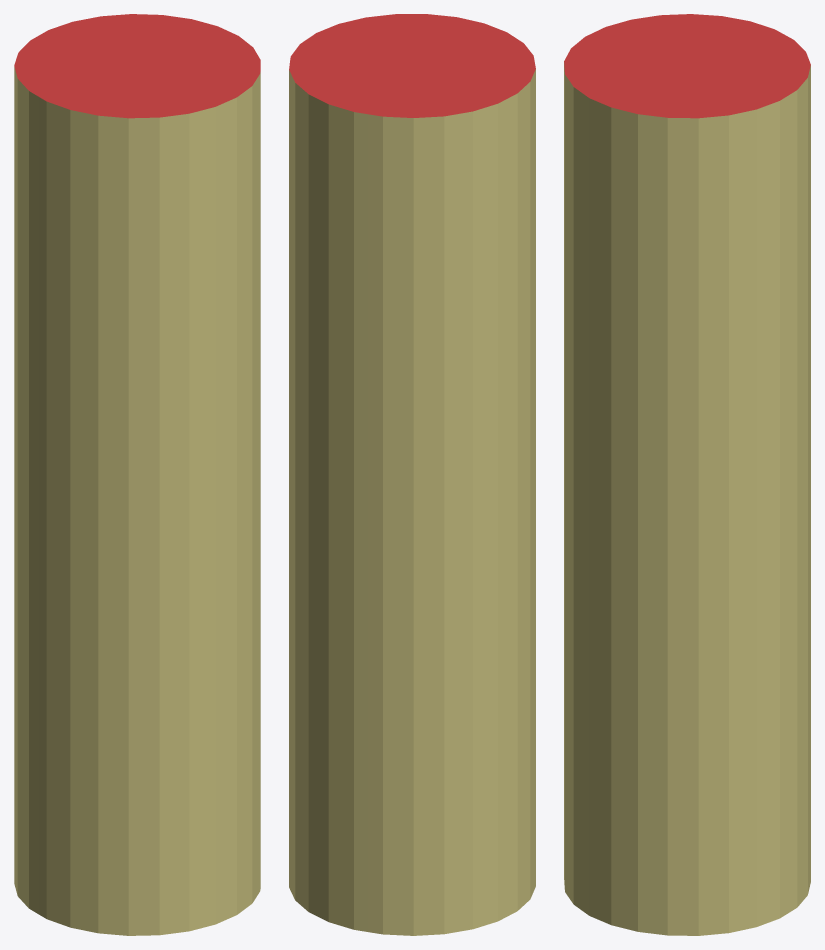
The picture shows the model from 3 angles, left to right: view 1: azimuth 30°, elevation 25°; view 2: azimuth 150°, elevation 25°; view 3: azimuth 270°, elevation 25°; orthographic projection.
Size of the model in its own units: 2.63 by 2.63 by 9.62.
